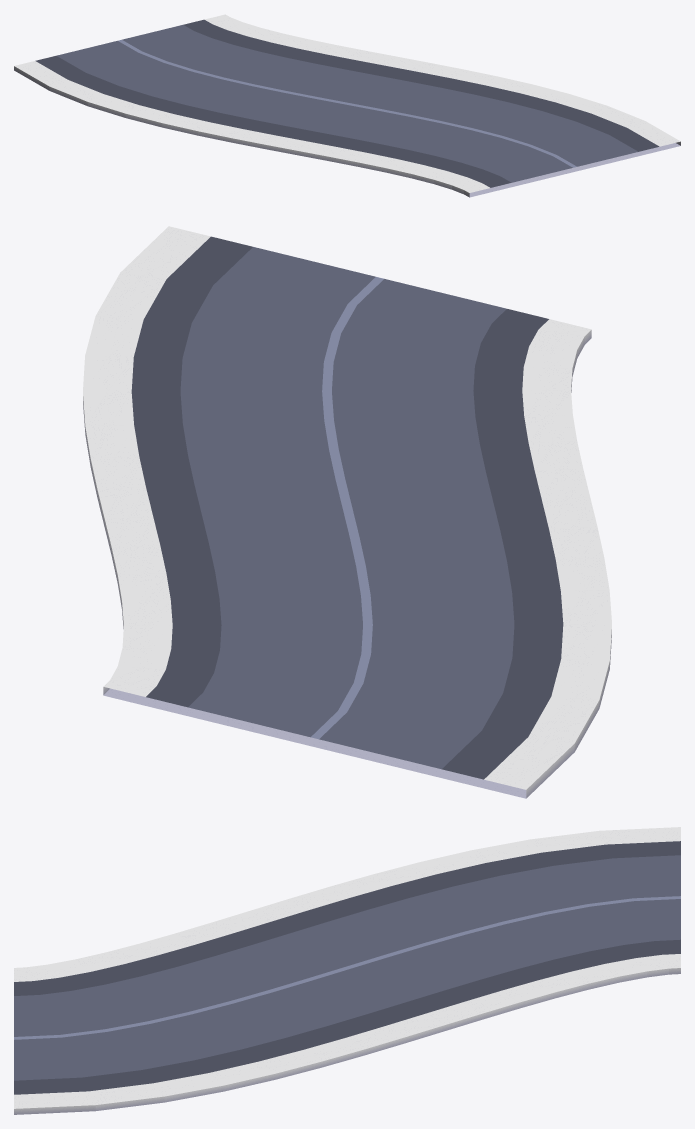
File: road-Chicane-Flat-Flat-Even-Left1-Size2.glb
3 views of the same model, one above another, from view 1: azimuth 30°, elevation 25°; view 2: azimuth 150°, elevation 25°; view 3: azimuth 270°, elevation 25° (orthographic). The views are drawn at different scales.
Visible parts, largest first — view 1: road-Chicane-Flat-Flat-Even-Left1-Size2; view 2: road-Chicane-Flat-Flat-Even-Left1-Size2; view 3: road-Chicane-Flat-Flat-Even-Left1-Size2.
Part boxes in pixels (x1,y1,x2,y2): road-Chicane-Flat-Flat-Even-Left1-Size2: (14, 14, 680, 197); road-Chicane-Flat-Flat-Even-Left1-Size2: (83, 226, 611, 798); road-Chicane-Flat-Flat-Even-Left1-Size2: (14, 827, 680, 1114).
Bounding box in the file's own units: 2 × 0.02 × 2.
1 material, 1 textured.
